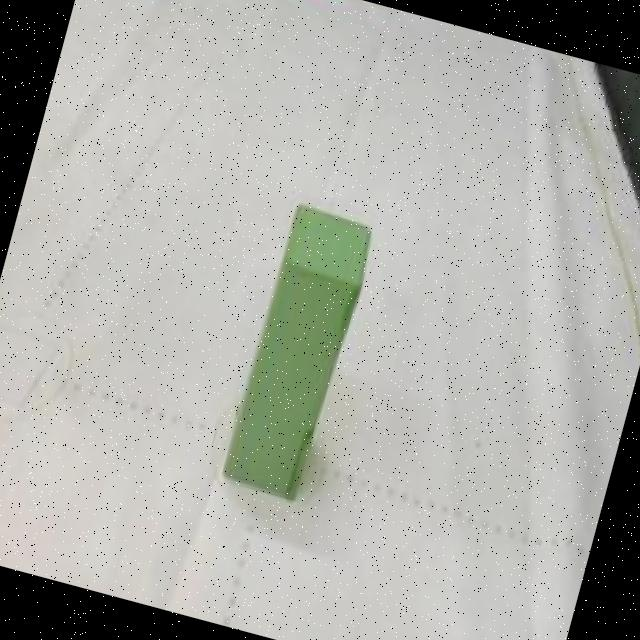greenbox: (214, 199, 380, 509)
